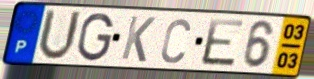6: (242, 19, 277, 70)
C: (159, 17, 192, 66)
E: (199, 17, 247, 69)
G: (76, 11, 116, 63)
K: (119, 14, 158, 65)
U: (35, 7, 83, 63)
